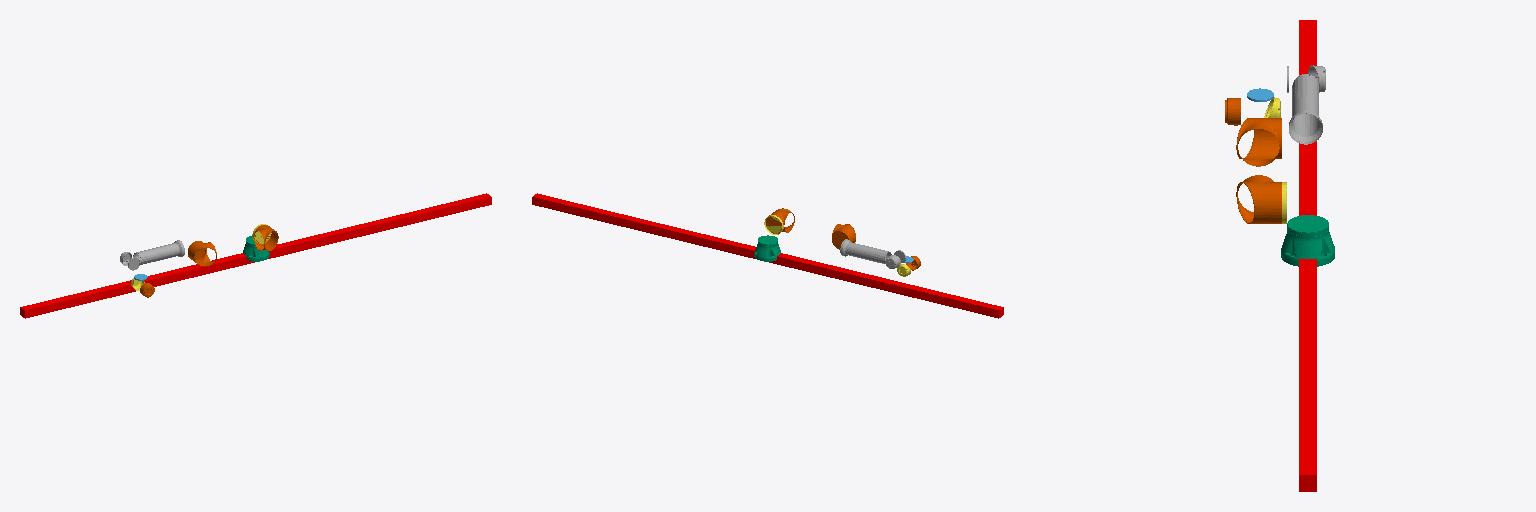
URDF robot description (ur5_with_x_axis):
<?xml version="1.0" ?>
<robot name="ur5_with_x_axis">
    <!--
    ================================================================================
    EXTERNAL AXIS DEFINITION (X Prismatic Joint)
    This axis allows the entire UR5 arm to move along the world frame's X axis.
    The chain is: world -> X_axis -> UR5_base
    ================================================================================
    -->

    <link name="world">
        <inertial>
            <origin xyz="0.0 0.0 0.0" rpy="0.0 0.0 0.0"/>
            <mass value="0.0"/>
            <inertia ixx="0.0" iyy="0.0" izz="0.0" ixy="0" ixz="0" iyz="0"/>
        </inertial>
    </link>

    <!-- Intermediate Link for X movement -->
    <link name="base_x_link">
        <visual>
            <geometry>
                <box size="3.0 0.05 0.05"/>
            </geometry>
            <material name="Red">
                <color rgba="1.0 0.0 0.0 1.0"/>
            </material>
        </visual>
        <inertial>
            <origin xyz="0 0 0" rpy="0 0 0"/>
            <mass value="0.001"/>
            <inertia ixx="1e-6" iyy="1e-6" izz="1e-6" ixy="0" ixz="0" iyz="0"/>
        </inertial>
    </link>

    <!-- Joint for X-axis translation -->
    <joint name="external_axis_x_joint" type="prismatic">
        <parent link="world"/>
        <child link="base_x_link"/>
        <origin xyz="0.0 0.0 0.0" rpy="0.0 0.0 0.0"/>
        <axis xyz="1.0 0.0 0.0"/>
        <!-- Limits for movement along X (e.g., +/- 1.5 meters) -->
        <limit lower="-1.5" upper="1.5" effort="1000" velocity="10"/>
    </joint>

    <!-- Fixed joint connecting the X-axis link to the original UR5 'base' link. -->
    <joint type="fixed" name="external_axis_to_ur5_base_fixed">
        <parent link="base_x_link"/>
        <child link="base"/>
        <origin xyz="0.0 0.0 0.0" rpy="0.0 0.0 3.141592653589793"/>
    </joint>

    <!--
    ================================================================================
    ORIGINAL UR5 ROBOT DEFINITION (Links and Joints preserved from original file)
    ================================================================================
    -->

    <link name="base">
        <inertial>
            <origin xyz="0.0 0.0 0.0" rpy="0.0 0.0 0.0"/>
            <mass value="4.0"/>
            <inertia ixx="0.00443333156" iyy="0.00443333156" izz="0.0072" ixy="0" ixz="0" iyz="0"/>
        </inertial>
        <visual name="base_0">
            <origin xyz="6.729318621181485e-07 -3.6596373548373673e-07 0.09357351429819695" rpy="-1.5707963267948966 -1.5707857113515709 3.141592653589793"/>
            <geometry>
                <mesh filename="meshes/base_0.obj"/>
            </geometry>
        </visual>
        <visual name="base_1">
            <origin xyz="1.503945707798981e-07 5.030274644771805e-07 0.03113409206125086" rpy="-1.399528539771004 -1.5707749404564806 -1.0870925788402255"/>
            <geometry>
                <mesh filename="meshes/base_1.obj"/>
            </geometry>
        </visual>
    </link>

    <link name="shoulder_link">
        <inertial>
            <origin xyz="0.0 0.0 0.0" rpy="0.0 0.0 0.0"/>
            <mass value="3.7"/>
            <inertia ixx="0.0102675" iyy="0.0102675" izz="0.00666" ixy="0" ixz="0" iyz="0"/>
        </inertial>
        <visual name="shoulder_0">
            <origin xyz="0.0001579198071144923 -0.008422927154951222 0.04825544244212041" rpy="2.9720573015818483 -1.2403403911528637 -1.566448043192206"/>
            <geometry>
                <mesh filename="meshes/shoulder_0.obj"/>
            </geometry>
        </visual>
        <visual name="shoulder_1">
            <origin xyz="1.0217402531697843e-06 0.06888462521467517 -0.000503284068890808" rpy="0.16995490760307885 -1.5623390598795694e-05 1.5708061595614313"/>
            <geometry>
                <mesh filename="meshes/shoulder_1.obj"/>
            </geometry>
        </visual>
        <visual name="shoulder_2">
            <origin xyz="-4.987106654918215e-05 0.0005636150374333556 -0.01875771782384345" rpy="1.6252859977178944 0.74319992894974 1.5734657987361387"/>
            <geometry>
                <mesh filename="meshes/shoulder_2.obj"/>
            </geometry>
        </visual>
    </link>
    <link name="shoulder_pan_joint_jointbody">
        <inertial>
            <origin xyz="0.0 0.0 0.0" rpy="0.0 0.0 0.0"/>
            <mass value="0.001"/>
            <inertia ixx="1e-09" iyy="1e-09" izz="1e-09" ixy="0" ixz="0" iyz="0"/>
        </inertial>
    </link>
    <joint type="revolute" name="shoulder_pan_joint">
        <parent link="base"/>
        <child link="shoulder_pan_joint_jointbody"/>
        <origin xyz="0.0 0.0 0.163" rpy="0.0 0.0 0.0"/>
        <axis xyz="0.0 0.0 1.0"/>
        <limit lower="-6.28319" upper="6.28319" effort="100" velocity="100"/>
    </joint>
    <joint type="fixed" name="shoulder_pan_joint_offset">
        <parent link="shoulder_pan_joint_jointbody"/>
        <child link="shoulder_link"/>
        <origin xyz="-0.0 -0.0 -0.0" rpy="0.0 0.0 0.0"/>
    </joint>
    <link name="upper_arm_link">
        <inertial>
            <origin xyz="0.0 0.0 0.2125" rpy="0.0 0.0 0.0"/>
            <mass value="8.393"/>
            <inertia ixx="0.133886" iyy="0.133886" izz="0.0151074" ixy="0" ixz="0" iyz="0"/>
        </inertial>
        <visual name="upperarm_0">
            <origin xyz="-3.5760986999942557e-06 -0.00019999979744521934 0.2121351784520985" rpy="-0.00033054302069512875 -1.4933708105679955e-06 -0.35514353174096286"/>
            <geometry>
                <mesh filename="meshes/upperarm_0.obj"/>
            </geometry>
        </visual>
        <visual name="upperarm_1">
            <origin xyz="-7.532369564797005e-07 -0.02455902448126744 0.29812745654549255" rpy="0.17716174242397165 7.967832782251882e-05 -0.00048191154196722263"/>
            <geometry>
                <mesh filename="meshes/upperarm_1.obj"/>
            </geometry>
        </visual>
        <visual name="upperarm_2">
            <origin xyz="1.2475330963946302e-05 -0.020613766332852907 0.21354779205990887" rpy="-4.279076197777343e-05 -0.00939633188786626 1.5726071086918691"/>
            <geometry>
                <mesh filename="meshes/upperarm_2.obj"/>
            </geometry>
        </visual>
        <visual name="upperarm_3">
            <origin xyz="-1.6738822332805943e-05 0.04530972332900902 0.21224046110461658" rpy="-1.1169861401483239e-05 -0.00033473145213402944 1.5712747113366192"/>
            <geometry>
                <mesh filename="meshes/upperarm_3.obj"/>
            </geometry>
        </visual>
    </link>
    <link name="shoulder_lift_joint_jointbody">
        <inertial>
            <origin xyz="0.0 0.0 0.0" rpy="0.0 0.0 0.0"/>
            <mass value="0.001"/>
            <inertia ixx="1e-09" iyy="1e-09" izz="1e-09" ixy="0" ixz="0" iyz="0"/>
        </inertial>
    </link>
    <joint type="revolute" name="shoulder_lift_joint">
        <parent link="shoulder_link"/>
        <child link="shoulder_lift_joint_jointbody"/>
        <origin xyz="0.0 0.138 0.0" rpy="-0.0 1.5707963267948966 0.0"/>
        <axis xyz="0.0 1.0 0.0"/>
        <limit lower="-6.28319" upper="6.28319" effort="100" velocity="100"/>
    </joint>
    <joint type="fixed" name="shoulder_lift_joint_offset">
        <parent link="shoulder_lift_joint_jointbody"/>
        <child link="upper_arm_link"/>
        <origin xyz="-0.0 -0.0 -0.0" rpy="0.0 0.0 0.0"/>
    </joint>
    <link name="forearm_link">
        <inertial>
            <origin xyz="0.0 0.0 0.196" rpy="0.0 0.0 0.0"/>
            <mass value="2.275"/>
            <inertia ixx="0.0311796" iyy="0.0311796" izz="0.004095" ixy="0" ixz="0" iyz="0"/>
        </inertial>
        <visual name="forearm_0">
            <origin xyz="2.6207363383002557e-05 -0.03986927887408664 0.39588938552993114" rpy="0.14899667064407296 0.3108521731199525 1.5710806045312697"/>
            <geometry>
                <mesh filename="meshes/forearm_0.obj"/>
            </geometry>
        </visual>
        <visual name="forearm_1">
            <origin xyz="-2.3636867243387616e-05 -0.0004340913719860277 0.204343083020783" rpy="0.0003357950292532941 -0.0005516154353499836 1.3332982833164047"/>
            <geometry>
                <mesh filename="meshes/forearm_1.obj"/>
            </geometry>
        </visual>
        <visual name="forearm_2">
            <origin xyz="-9.66138589916062e-06 0.016976509028764613 0.25503902118262084" rpy="-0.1463016262272855 0.0006537089324485379 0.004919271858447524"/>
            <geometry>
                <mesh filename="meshes/forearm_2.obj"/>
            </geometry>
        </visual>
        <visual name="forearm_3">
            <origin xyz="2.975142777834475e-06 0.01196066834502387 0.163616824759711" rpy="2.9786105121054618e-05 0.020325139034571116 1.5715676831718508"/>
            <geometry>
                <mesh filename="meshes/forearm_3.obj"/>
            </geometry>
        </visual>
    </link>
    <link name="elbow_joint_jointbody">
        <inertial>
            <origin xyz="0.0 0.0 0.0" rpy="0.0 0.0 0.0"/>
            <mass value="0.001"/>
            <inertia ixx="1e-09" iyy="1e-09" izz="1e-09" ixy="0" ixz="0" iyz="0"/>
        </inertial>
    </link>
    <joint type="revolute" name="elbow_joint">
        <parent link="upper_arm_link"/>
        <child link="elbow_joint_jointbody"/>
        <origin xyz="0.0 -0.131 0.425" rpy="0.0 0.0 0.0"/>
        <axis xyz="0.0 1.0 0.0"/>
        <limit lower="-3.1415" upper="3.1415" effort="100" velocity="100"/>
    </joint>
    <joint type="fixed" name="elbow_joint_offset">
        <parent link="elbow_joint_jointbody"/>
        <child link="forearm_link"/>
        <origin xyz="-0.0 -0.0 -0.0" rpy="0.0 0.0 0.0"/>
    </joint>
    <link name="wrist_1_link">
        <inertial>
            <origin xyz="0.0 0.127 0.0" rpy="0.0 0.0 0.0"/>
            <mass value="1.219"/>
            <inertia ixx="0.0025599" iyy="0.0025599" izz="0.0021942" ixy="0" ixz="0" iyz="0"/>
        </inertial>
        <visual name="wrist1_0">
            <origin xyz="-2.324752008885248e-05 0.12628514044400524 0.04897505972393637" rpy="-1.5707963267955911 -1.5705970679188206 -1.169748682409278"/>
            <geometry>
                <mesh filename="meshes/wrist1_0.obj"/>
            </geometry>
        </visual>
        <visual name="wrist1_1">
            <origin xyz="-3.6644583695254237e-05 0.13040179162514767 -0.039703488567445454" rpy="-3.0659680894269 -1.2613429633090303 -1.5694033802823593"/>
            <geometry>
                <mesh filename="meshes/wrist1_1.obj"/>
            </geometry>
        </visual>
        <visual name="wrist1_2">
            <origin xyz="-2.0990614937820244e-06 0.11289621711604998 0.012388333942626797" rpy="-3.1400977441796236 -1.0305077756151968 -1.572331006823194"/>
            <geometry>
                <mesh filename="meshes/wrist1_2.obj"/>
            </geometry>
        </visual>
    </link>
    <link name="wrist_1_joint_jointbody">
        <inertial>
            <origin xyz="0.0 0.0 0.0" rpy="0.0 0.0 0.0"/>
            <mass value="0.001"/>
            <inertia ixx="1e-09" iyy="1e-09" izz="1e-09" ixy="0" ixz="0" iyz="0"/>
        </inertial>
    </link>
    <joint type="revolute" name="wrist_1_joint">
        <parent link="forearm_link"/>
        <child link="wrist_1_joint_jointbody"/>
        <origin xyz="0.0 0.0 0.392" rpy="-0.0 1.5707963267948966 0.0"/>
        <axis xyz="0.0 1.0 0.0"/>
        <limit lower="-6.28319" upper="6.28319" effort="100" velocity="100"/>
    </joint>
    <joint type="fixed" name="wrist_1_joint_offset">
        <parent link="wrist_1_joint_jointbody"/>
        <child link="wrist_1_link"/>
        <origin xyz="-0.0 -0.0 -0.0" rpy="0.0 0.0 0.0"/>
    </joint>
    <link name="wrist_2_link">
        <inertial>
            <origin xyz="0.0 0.0 0.1" rpy="0.0 0.0 0.0"/>
            <mass value="1.219"/>
            <inertia ixx="0.0025599" iyy="0.0025599" izz="0.0021942" ixy="0" ixz="0" iyz="0"/>
        </inertial>
        <visual name="wrist2_0">
            <origin xyz="-3.8001937811610543e-06 0.04853645611151084 0.09943580433195488" rpy="0.17748605449059573 0.0 1.5707963267948966"/>
            <geometry>
                <mesh filename="meshes/wrist2_0.obj"/>
            </geometry>
        </visual>
        <visual name="wrist2_1">
            <origin xyz="3.169640163593594e-05 -0.040206055715980675 0.10359119935436584" rpy="0.11116566518449311 0.3094663745829749 1.5711748623937276"/>
            <geometry>
                <mesh filename="meshes/wrist2_1.obj"/>
            </geometry>
        </visual>
        <visual name="wrist2_2">
            <origin xyz="9.000191078913615e-07 0.016056655860314212 0.09663180277604577" rpy="-3.1411058592901813 -0.8028357577556227 -1.5708829412270986"/>
            <geometry>
                <mesh filename="meshes/wrist2_2.obj"/>
            </geometry>
        </visual>
    </link>
    <link name="wrist_2_joint_jointbody">
        <inertial>
            <origin xyz="0.0 0.0 0.0" rpy="0.0 0.0 0.0"/>
            <mass value="0.001"/>
            <inertia ixx="1e-09" iyy="1e-09" izz="1e-09" ixy="0" ixz="0" iyz="0"/>
        </inertial>
    </link>
    <joint type="revolute" name="wrist_2_joint">
        <parent link="wrist_1_link"/>
        <child link="wrist_2_joint_jointbody"/>
        <origin xyz="0.0 0.127 0.0" rpy="0.0 0.0 0.0"/>
        <axis xyz="0.0 0.0 1.0"/>
        <limit lower="-6.28319" upper="6.28319" effort="100" velocity="100"/>
    </joint>
    <joint type="fixed" name="wrist_2_joint_offset">
        <parent link="wrist_2_joint_jointbody"/>
        <child link="wrist_2_link"/>
        <origin xyz="-0.0 -0.0 -0.0" rpy="0.0 0.0 0.0"/>
    </joint>
    <link name="wrist_3_link">
        <inertial>
            <origin xyz="0.0 0.0771683 0.0" rpy="0.0 0.0 1.5707963267948963"/>
            <mass value="0.1889"/>
            <inertia ixx="0.000132134" iyy="9.90863e-05" izz="9.90863e-05" ixy="0" ixz="0" iyz="0"/>
        </inertial>
        <visual name="wrist3">
            <origin xyz="1.3730314416336136e-05 0.07930911124904105 -0.0005378684357207328" rpy="0.22605647583783017 0.004863637106366836 1.5703149375099286"/>
            <geometry>
                <mesh filename="meshes/wrist3.obj"/>
            </geometry>
        </visual>
    </link>
    <link name="wrist_3_joint_jointbody">
        <inertial>
            <origin xyz="0.0 0.0 0.0" rpy="0.0 0.0 0.0"/>
            <mass value="0.001"/>
            <inertia ixx="1e-09" iyy="1e-09" izz="1e-09" ixy="0" ixz="0" iyz="0"/>
        </inertial>
    </link>
    <joint type="revolute" name="wrist_3_joint">
        <parent link="wrist_2_link"/>
        <child link="wrist_3_joint_jointbody"/>
        <origin xyz="0.0 0.0 0.1" rpy="0.0 0.0 0.0"/>
        <axis xyz="0.0 1.0 0.0"/>
        <limit lower="-6.28319" upper="6.28319" effort="100" velocity="100"/>
    </joint>
    <joint type="fixed" name="wrist_3_joint_offset">
        <parent link="wrist_3_joint_jointbody"/>
        <child link="wrist_3_link"/>
        <origin xyz="-0.0 -0.0 -0.0" rpy="0.0 0.0 0.0"/>
    </joint>
</robot>

--- Render facts (derived) ---
The picture shows the robot from 3 angles, left to right: view 1: azimuth 30°, elevation 25°; view 2: azimuth 150°, elevation 25°; view 3: azimuth 270°, elevation 25°; orthographic projection.
Model ur5_with_x_axis with 15 links and 14 joints (6 revolute, 1 prismatic, 7 fixed), rooted at world, posed all joints at 0.
Links seen in each view (by area): view 1: base_x_link, forearm_link, upper_arm_link; view 2: base_x_link, forearm_link, upper_arm_link, base; view 3: base_x_link, upper_arm_link, forearm_link, base.
Link boxes in pixels (x1=…): base_x_link: x1=20, y1=193, x2=491, y2=318; forearm_link: x1=120, y1=240, x2=184, y2=270; upper_arm_link: x1=188, y1=225, x2=278, y2=266; base_x_link: x1=532, y1=193, x2=1003, y2=318; forearm_link: x1=840, y1=239, x2=905, y2=268; upper_arm_link: x1=766, y1=208, x2=855, y2=249; base: x1=754, y1=235, x2=780, y2=261; base_x_link: x1=1299, y1=20, x2=1316, y2=491; upper_arm_link: x1=1236, y1=118, x2=1281, y2=223; forearm_link: x1=1287, y1=65, x2=1325, y2=144; base: x1=1281, y1=215, x2=1334, y2=266.
Size in the robot's own frame: 3 by 0.3085 by 0.2463 metres.
Meshes: 20 distinct files referenced, 10 mesh visuals loaded (10 OBJ); not drawn: 10 (reference not matched to a file when rendering).